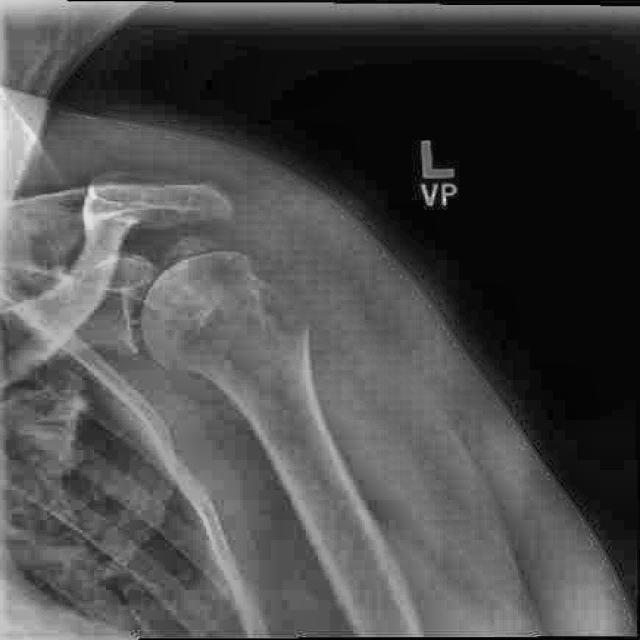shoulder fracture: (199, 228, 338, 373)
